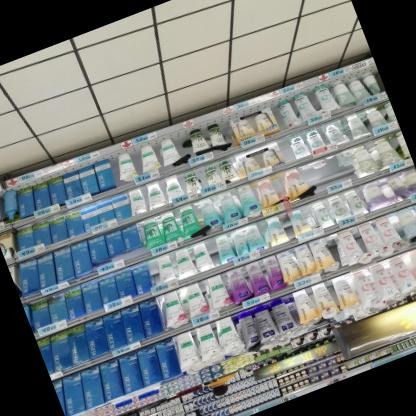empty_space: (304, 160, 346, 195), (202, 235, 228, 267), (172, 132, 197, 164), (127, 147, 151, 178), (106, 155, 129, 187), (275, 136, 298, 164)
